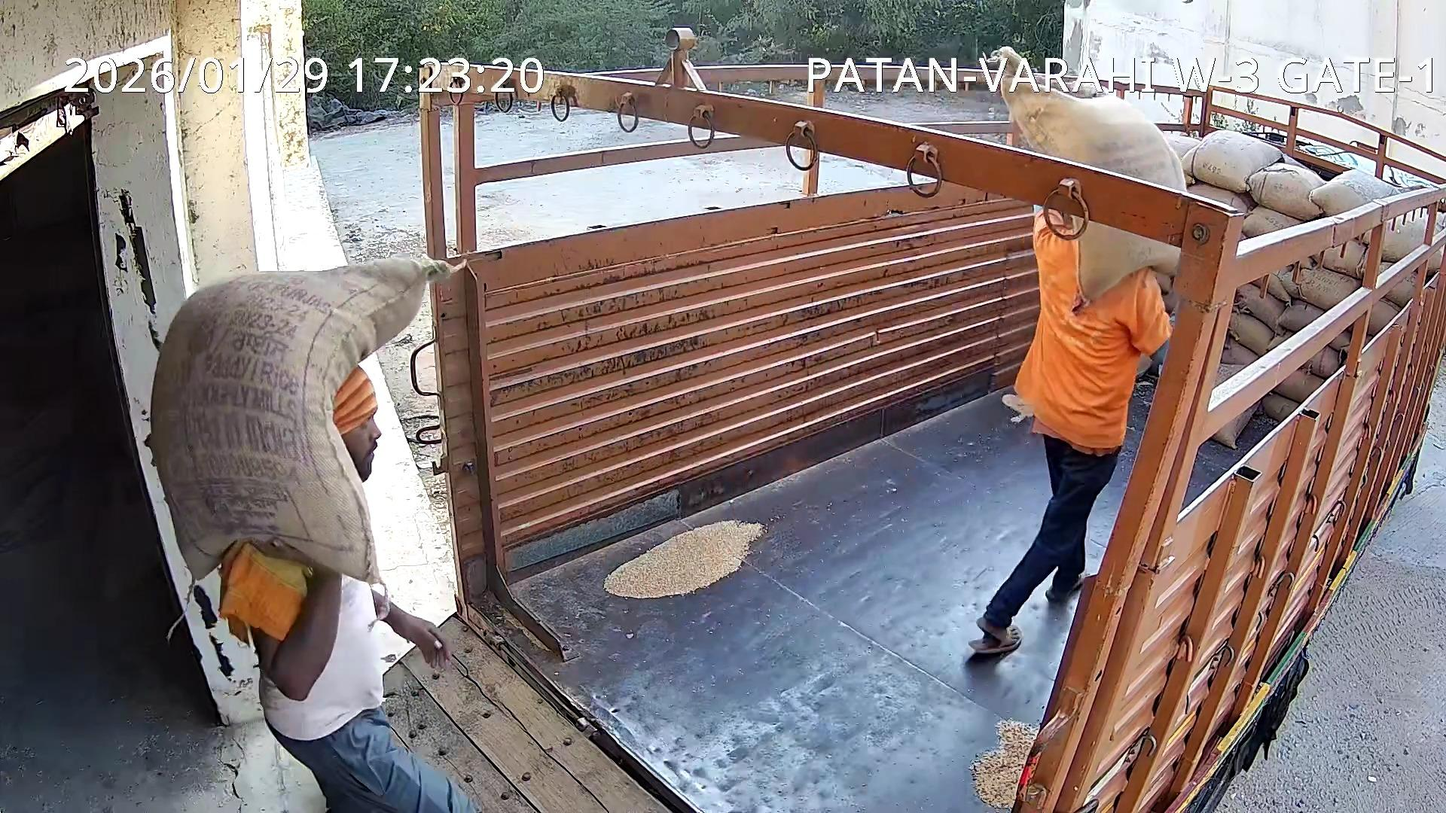Sack: (151, 257, 450, 580), (996, 47, 1185, 191), (1076, 226, 1179, 302)
